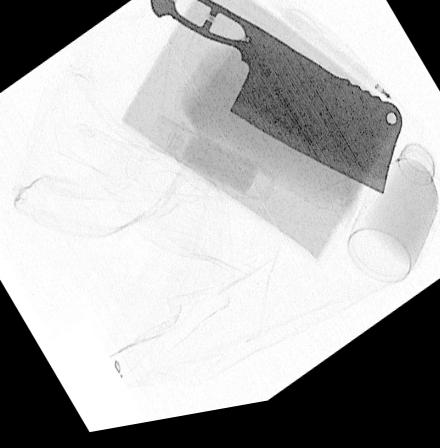Knife: (148, 0, 405, 209)
